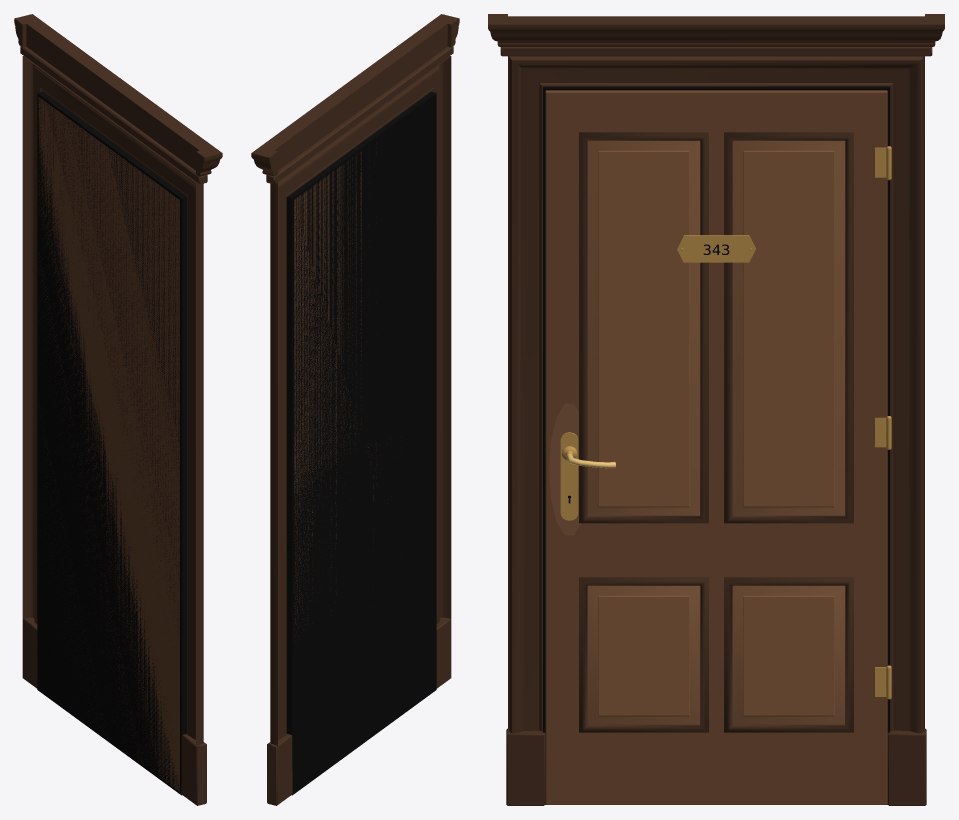
File: hotel_door_f.glb
The picture shows the model from 3 angles, left to right: view 1: azimuth 30°, elevation 25°; view 2: azimuth 150°, elevation 25°; view 3: azimuth 270°, elevation 25°; orthographic projection. The views are drawn at different scales.
Parts seen in each view (by area): view 1: fuge, blatt, bekleidung, verdachung; view 2: fuge, bekleidung, blatt, verdachung; view 3: fuellungen, blatt, bekleidung, kehlleisten, verdachung, fuge, beschlag, nummernschild, abrieb.
Boxes of the visible parts, left/top/right/bottom form: fuge: left=37, top=91, right=187, bottom=795; blatt: left=38, top=97, right=179, bottom=792; bekleidung: left=22, top=56, right=206, bottom=805; verdachung: left=14, top=14, right=222, bottom=184; fuge: left=286, top=91, right=436, bottom=795; bekleidung: left=267, top=56, right=451, bottom=805; blatt: left=294, top=151, right=376, bottom=627; verdachung: left=251, top=14, right=459, bottom=184; fuellungen: left=587, top=140, right=845, bottom=724; blatt: left=545, top=90, right=887, bottom=804; bekleidung: left=506, top=56, right=926, bottom=805; kehlleisten: left=579, top=132, right=853, bottom=732; verdachung: left=488, top=14, right=944, bottom=56; fuge: left=543, top=86, right=889, bottom=804; beschlag: left=560, top=146, right=891, bottom=699; nummernschild: left=677, top=235, right=755, bottom=262; abrieb: left=549, top=403, right=581, bottom=535.
Size of the model in its own units: 0.1118 by 2.33 by 1.23.
